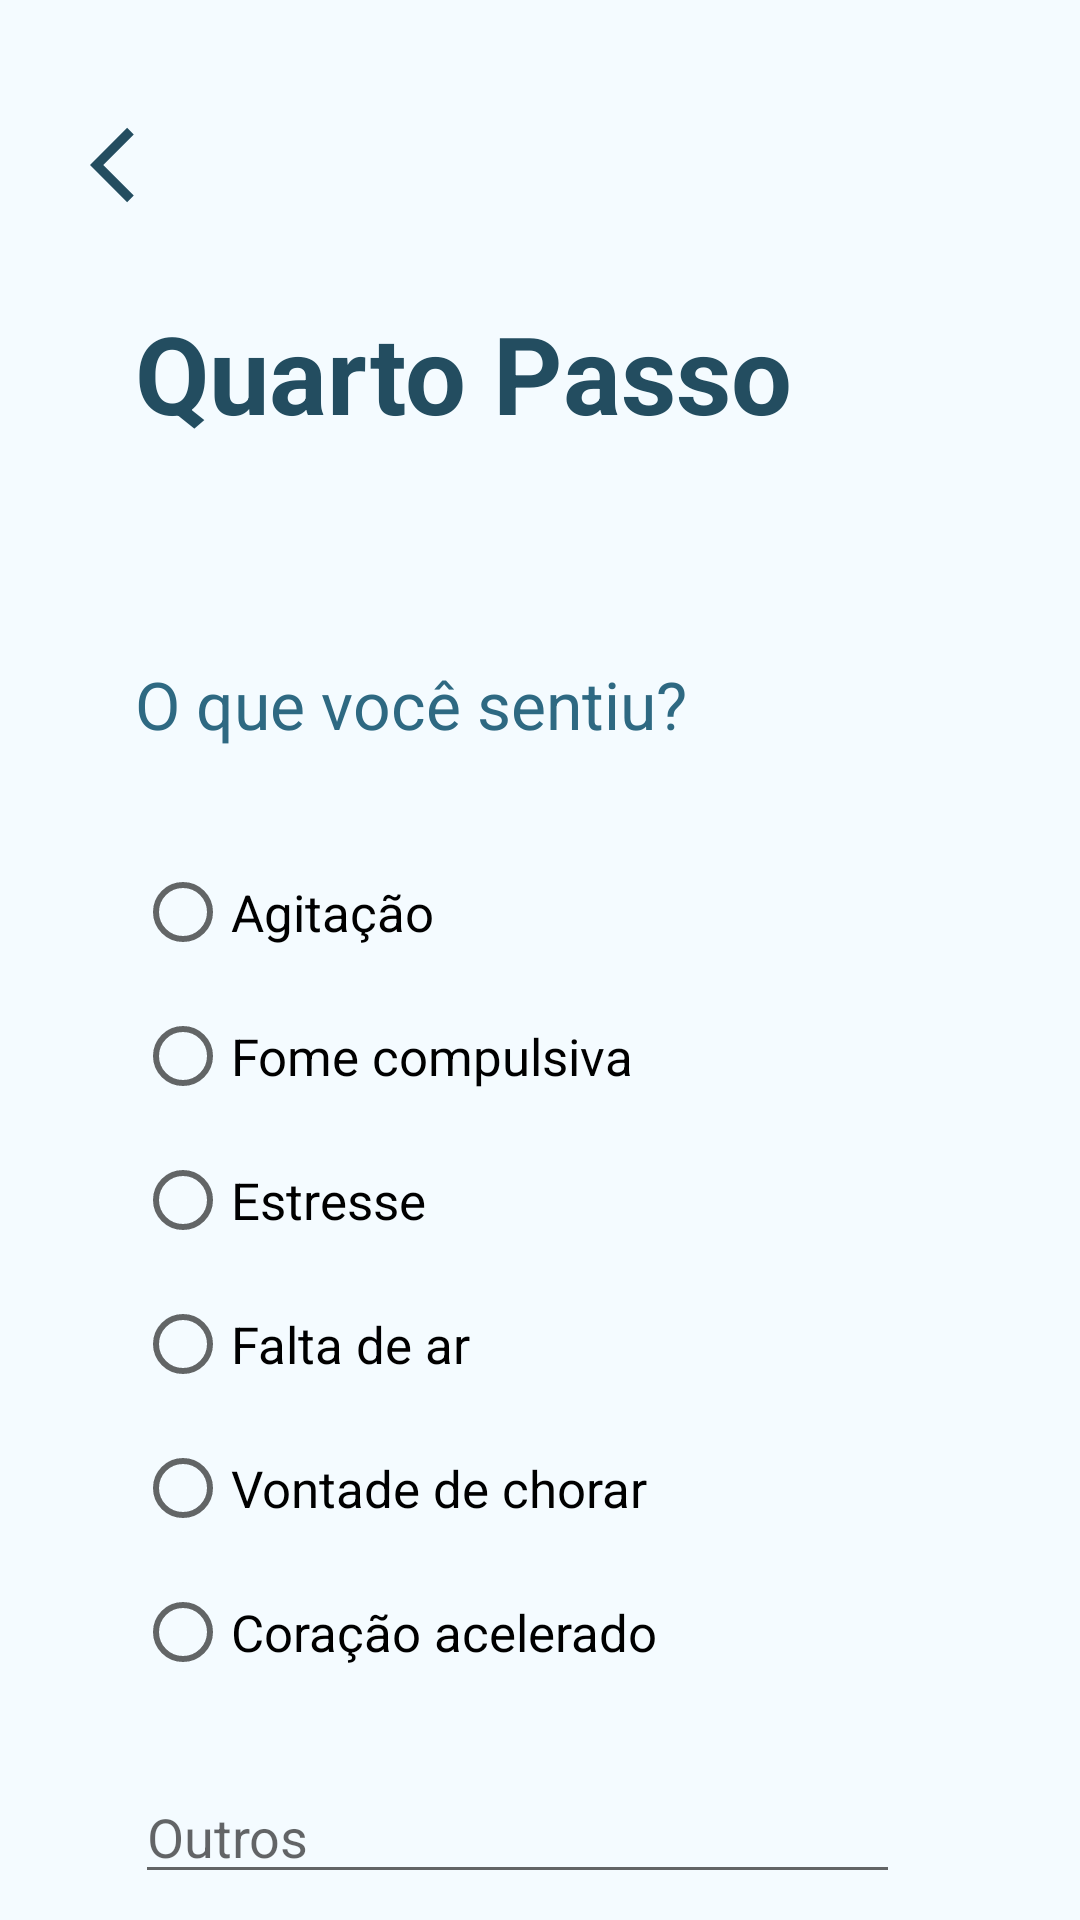

Named icons in this screenshot (1080*1920) and their bounding boxes, (x1, y1, x2, y2):
voltarrr: (90, 128, 134, 202)
